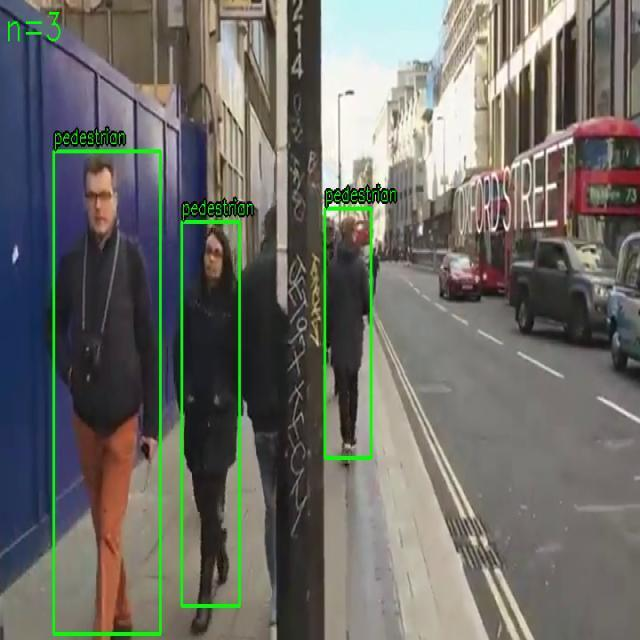person: (53, 150, 161, 634), (181, 221, 240, 607), (324, 208, 372, 458)
